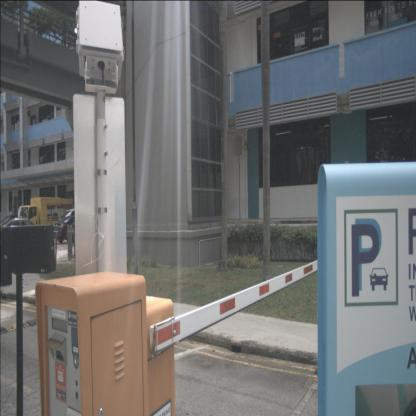vehicle-car: (52, 215, 94, 244)
vehicle-truck: (18, 196, 74, 240)
